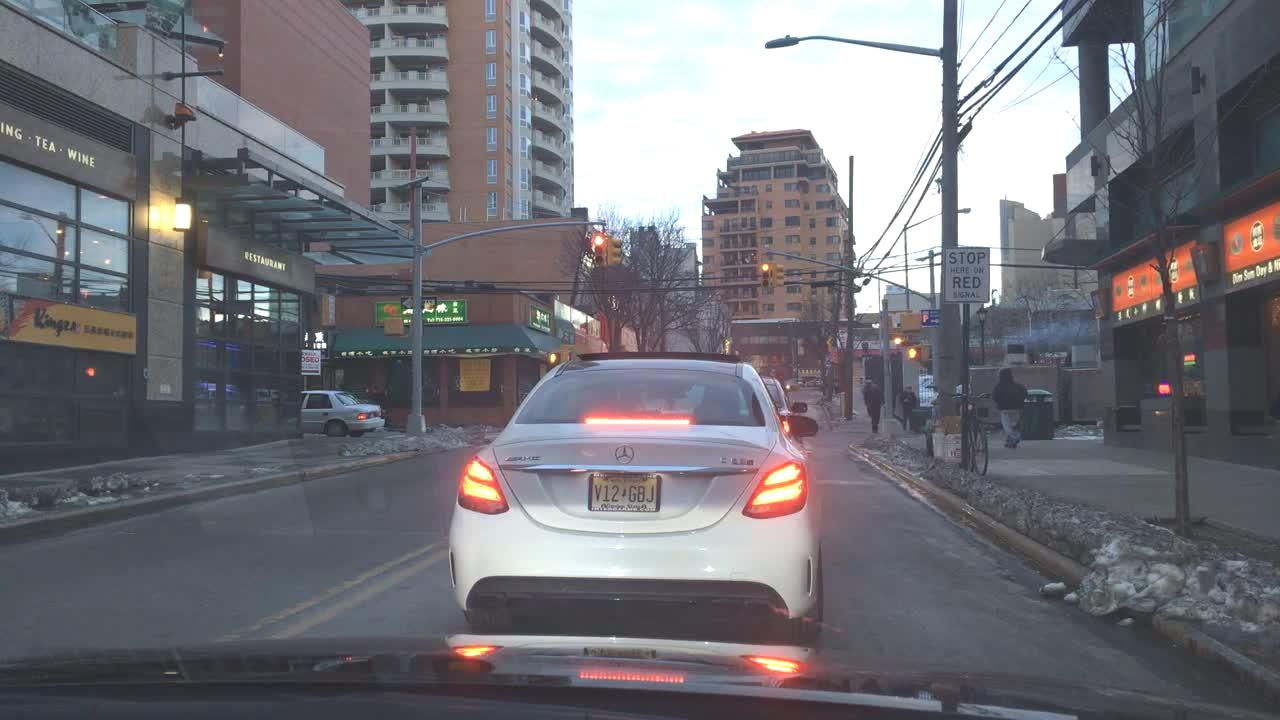Mercedes: (612, 442, 637, 468)
